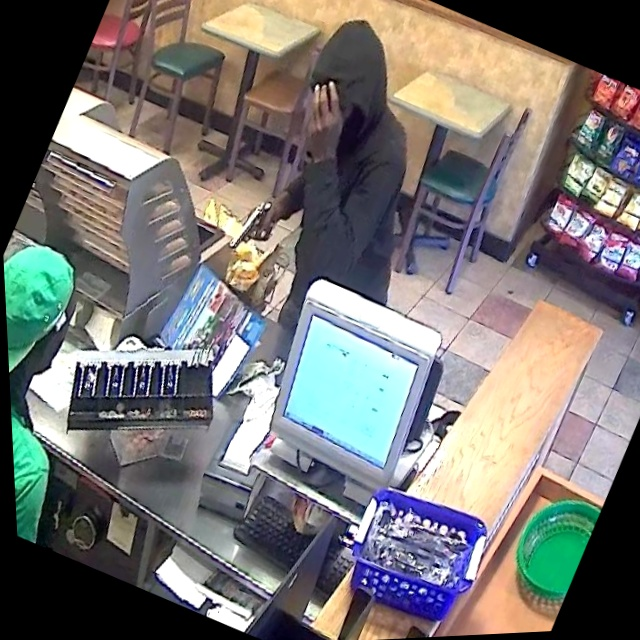gun: (219, 188, 288, 267)
